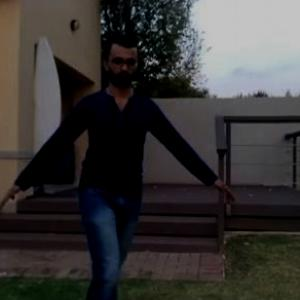land: (1, 40, 218, 299)
